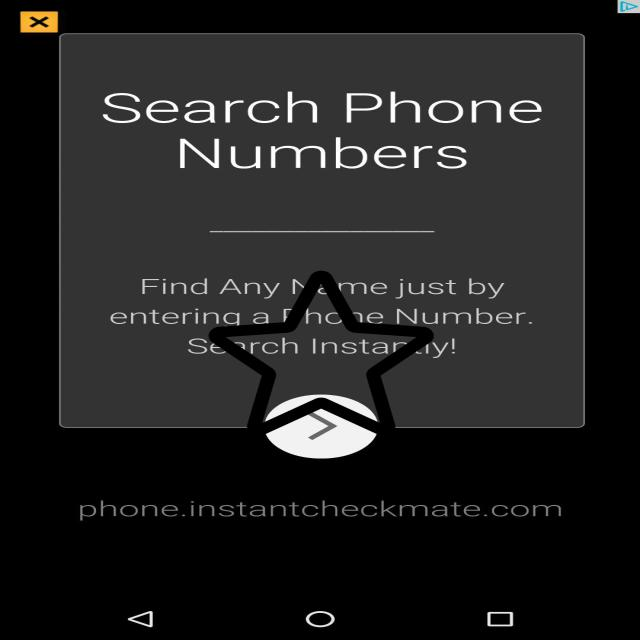forced continuity: (208, 267, 434, 439)
